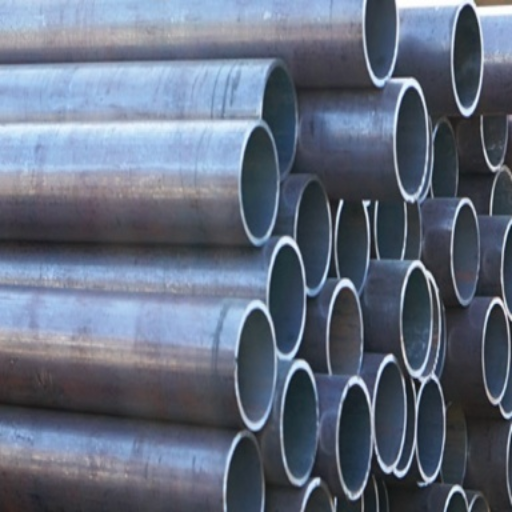Circle: (237, 309, 274, 420), (241, 127, 276, 236), (269, 245, 302, 353), (284, 369, 316, 478), (263, 67, 295, 171), (298, 181, 328, 287), (397, 87, 425, 195), (340, 385, 369, 489), (375, 363, 403, 464), (403, 270, 430, 370), (329, 289, 360, 372), (337, 201, 366, 288), (227, 439, 262, 511), (455, 5, 480, 104), (417, 381, 442, 475), (366, 0, 396, 78), (452, 207, 476, 298), (485, 307, 507, 396), (433, 124, 456, 196), (378, 203, 403, 259), (484, 116, 507, 165), (424, 293, 438, 373), (337, 482, 375, 511), (400, 383, 413, 463), (502, 328, 511, 412), (493, 176, 511, 214), (504, 229, 511, 308), (307, 488, 330, 511), (449, 493, 465, 511), (472, 499, 486, 511), (509, 447, 511, 489)
